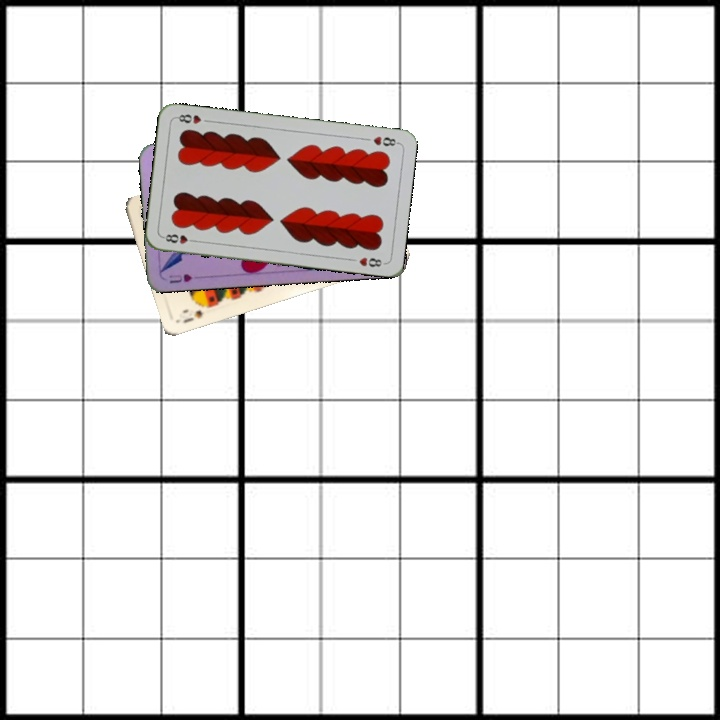H8: (159, 230, 200, 247), (369, 132, 401, 149)
HU: (165, 270, 195, 286)
S10: (179, 306, 205, 325)
